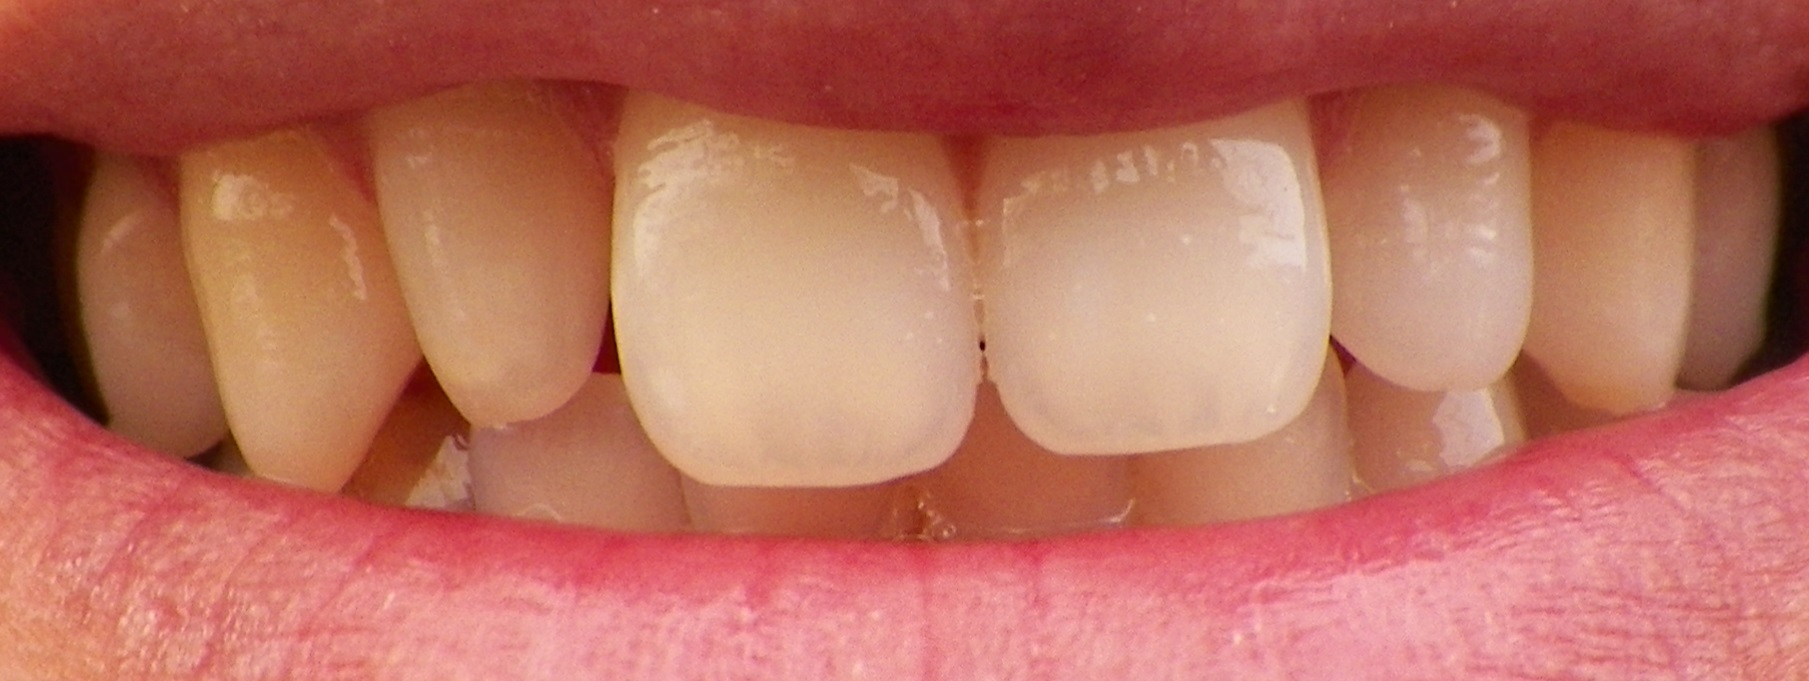boca: (53, 117, 1788, 551)
